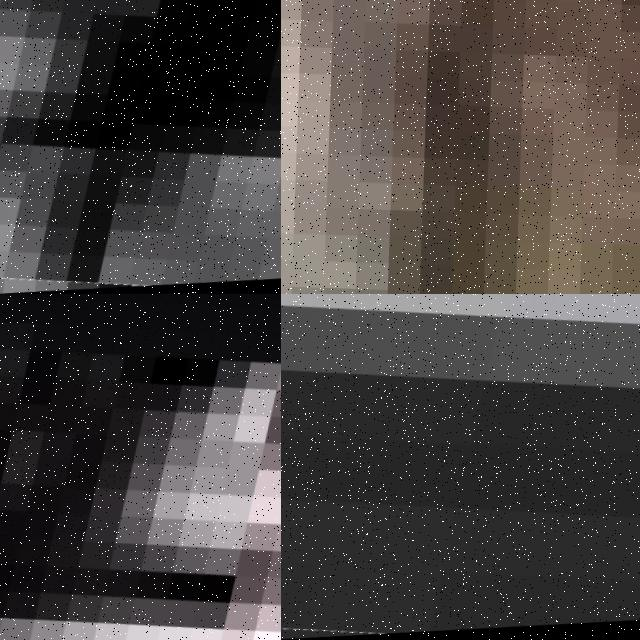0: (0, 294, 281, 640), (0, 0, 281, 294)
drone: (281, 294, 640, 640)
